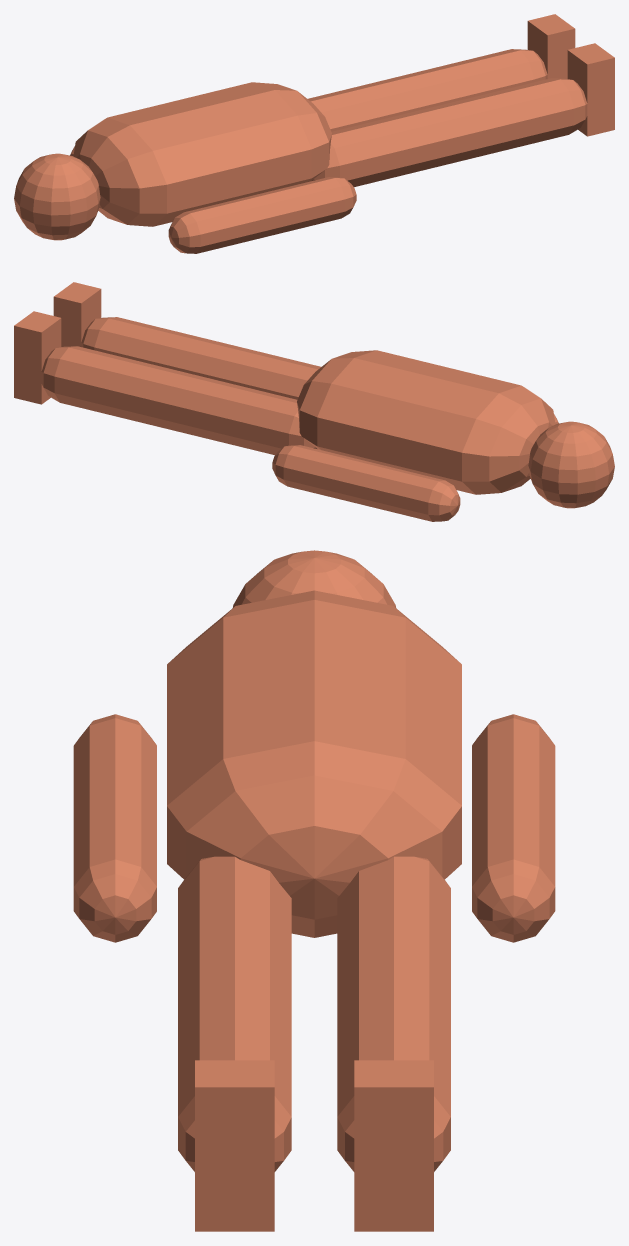
The model's file is prop.dummy.glb.
3 renders of one model, top to bottom at view 1: azimuth 30°, elevation 25°; view 2: azimuth 150°, elevation 25°; view 3: azimuth 270°, elevation 25°, orthographic. The views are drawn at different scales.
Parts seen in each view (by area): view 1: prop.dummy; view 2: prop.dummy; view 3: prop.dummy.
Boxes of the visible parts, bbox=[...] form: prop.dummy: bbox=[14, 14, 614, 253]; prop.dummy: bbox=[14, 282, 614, 521]; prop.dummy: bbox=[73, 550, 555, 1231].
Bounding box in the file's own units: 1.64 × 0.26 × 0.6046.
